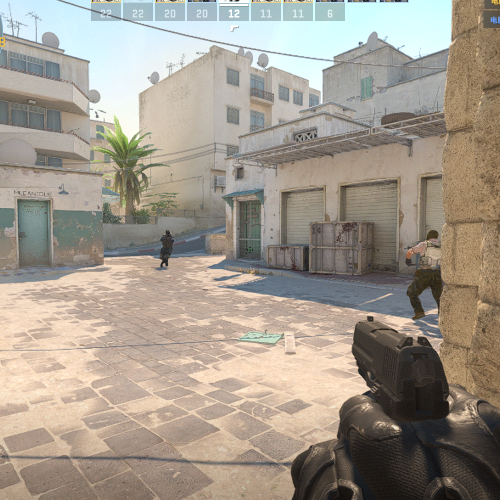ct_body: (159, 229, 174, 268)
ct_head: (164, 229, 171, 236)
t_body: (404, 228, 442, 319)
t_head: (425, 229, 438, 243)
